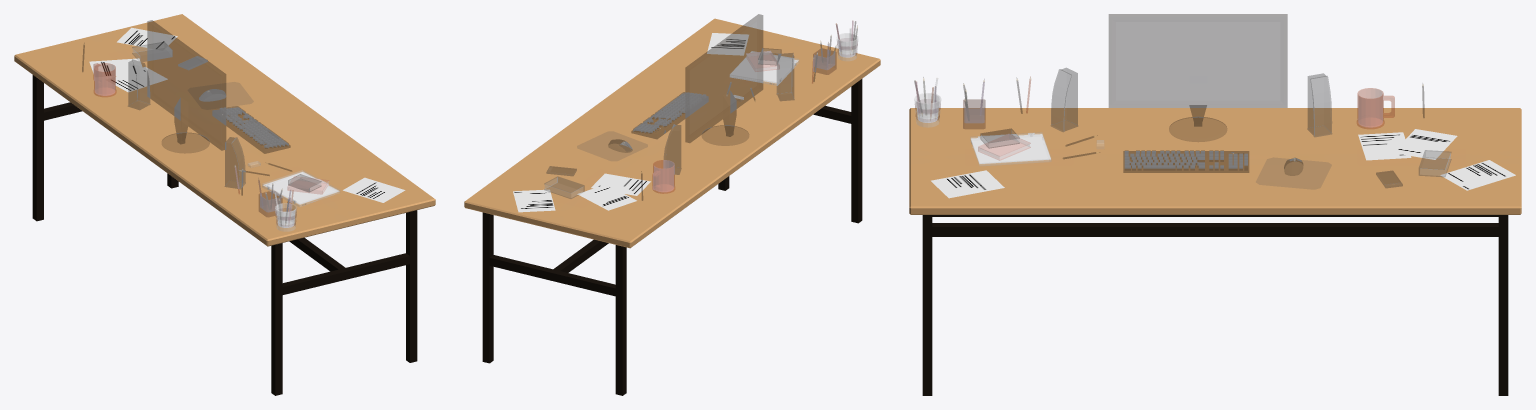
File: new_desk-D20m69dQ.glb
3 renders of one model, left to right at view 1: azimuth 30°, elevation 25°; view 2: azimuth 150°, elevation 25°; view 3: azimuth 270°, elevation 25°, orthographic. The views are drawn at different scales.
Parts seen in each view (by area): view 1: Desk, PC_Monitor, Paper, PC_Speaker, Boxes, PC_Keyboard, Notebook, Books, Pen, Mousepad; view 2: Desk, PC_Monitor, Paper, Boxes, PC_Keyboard, PC_Speaker, Books, Notebook, Mousepad, Pen; view 3: Desk, PC_Monitor, Paper, PC_Speaker, PC_Keyboard, Boxes, Notebook, Books, Mousepad, Pen.
Boxes of the visible parts, x1=… form: Desk: x1=14, y1=14, x2=435, y2=395; PC_Monitor: x1=147, y1=20, x2=225, y2=152; Paper: x1=89, y1=27, x2=405, y2=202; PC_Speaker: x1=128, y1=59, x2=245, y2=189; Boxes: x1=93, y1=63, x2=296, y2=231; PC_Keyboard: x1=212, y1=106, x2=290, y2=153; Notebook: x1=262, y1=170, x2=339, y2=206; Books: x1=132, y1=42, x2=328, y2=194; Pen: x1=82, y1=43, x2=293, y2=225; Mousepad: x1=226, y1=82, x2=253, y2=106; Desk: x1=464, y1=18, x2=880, y2=395; PC_Monitor: x1=685, y1=14, x2=762, y2=145; Paper: x1=513, y1=33, x2=748, y2=212; Boxes: x1=652, y1=33, x2=857, y2=193; PC_Keyboard: x1=631, y1=92, x2=708, y2=138; PC_Speaker: x1=663, y1=53, x2=794, y2=174; Books: x1=544, y1=48, x2=781, y2=198; Notebook: x1=730, y1=51, x2=798, y2=85; Mousepad: x1=577, y1=132, x2=647, y2=160; Pen: x1=641, y1=20, x2=857, y2=200; Desk: x1=909, y1=108, x2=1521, y2=395; PC_Monitor: x1=1109, y1=14, x2=1287, y2=141; Paper: x1=931, y1=129, x2=1515, y2=198; PC_Speaker: x1=1051, y1=68, x2=1331, y2=136; PC_Keyboard: x1=1123, y1=150, x2=1248, y2=172; Boxes: x1=914, y1=88, x2=1394, y2=128; Notebook: x1=970, y1=132, x2=1051, y2=165; Books: x1=978, y1=128, x2=1451, y2=176; Mousepad: x1=1256, y1=158, x2=1331, y2=188; Pen: x1=914, y1=76, x2=1424, y2=158.
Bounding box in the file's own units: 2.22 × 3.24 × 5.76.
17 materials, 16 textured.
